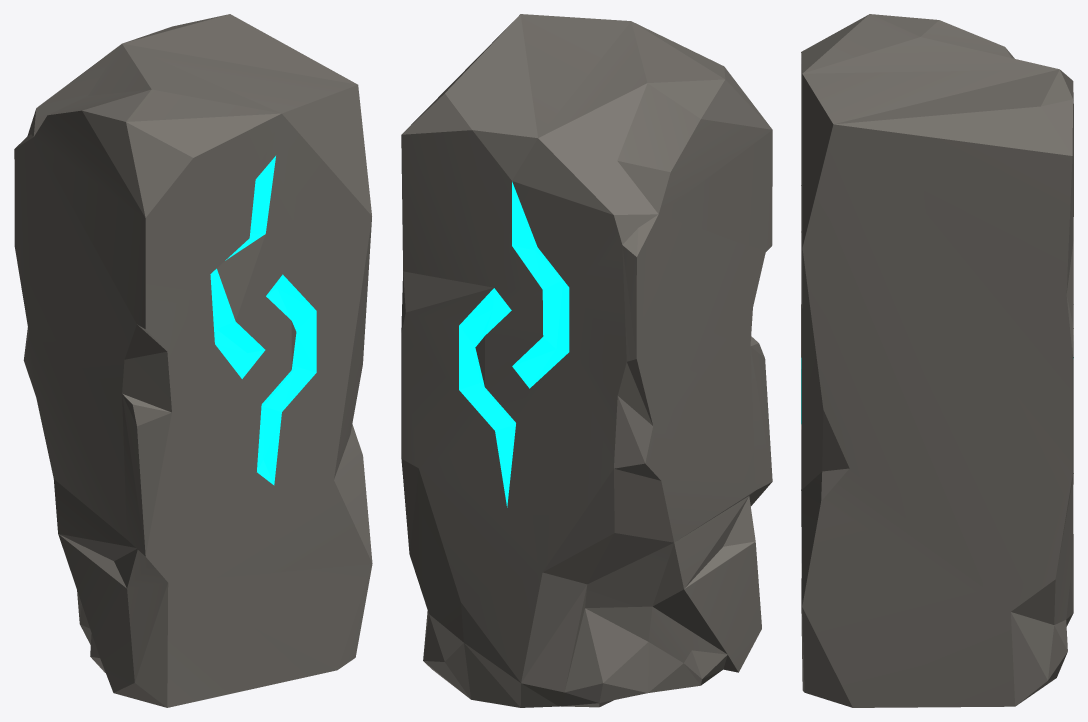
File: BigMagicStone1.FBX
The picture shows the model from 3 angles, left to right: view 1: azimuth 30°, elevation 25°; view 2: azimuth 150°, elevation 25°; view 3: azimuth 270°, elevation 25°; orthographic projection. The views are drawn at different scales.
Visible parts, largest first — view 1: Obj3d66-1649282-9-105; view 2: Obj3d66-1649282-9-105; view 3: Obj3d66-1649282-9-105.
Part boxes in pixels (<box>): Obj3d66-1649282-9-105: <box>14,14,372,707</box>; Obj3d66-1649282-9-105: <box>401,14,772,707</box>; Obj3d66-1649282-9-105: <box>801,14,1073,707</box>.
Bounding box in the file's own units: 1000 × 2382 × 1000.
1 material, 1 textured.
